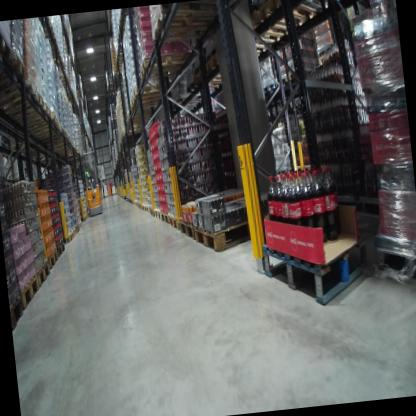pallet: (256, 220, 375, 319), (227, 2, 319, 62), (146, 0, 229, 48), (191, 208, 271, 254), (254, 0, 327, 38), (372, 227, 416, 289), (201, 42, 258, 83), (135, 51, 198, 82), (0, 76, 41, 116), (270, 0, 354, 19), (0, 50, 29, 102), (16, 100, 53, 134), (0, 22, 19, 87), (12, 91, 47, 126), (16, 271, 43, 313), (274, 66, 318, 89), (131, 81, 174, 103), (128, 94, 168, 111), (9, 293, 25, 330), (35, 258, 52, 289), (178, 214, 194, 240), (46, 246, 61, 268), (261, 81, 276, 98), (273, 101, 289, 116), (55, 240, 67, 256), (63, 228, 75, 244), (293, 97, 305, 110), (70, 225, 78, 238), (74, 222, 81, 234), (78, 220, 83, 228)
pallet_truck: (79, 147, 109, 217)
